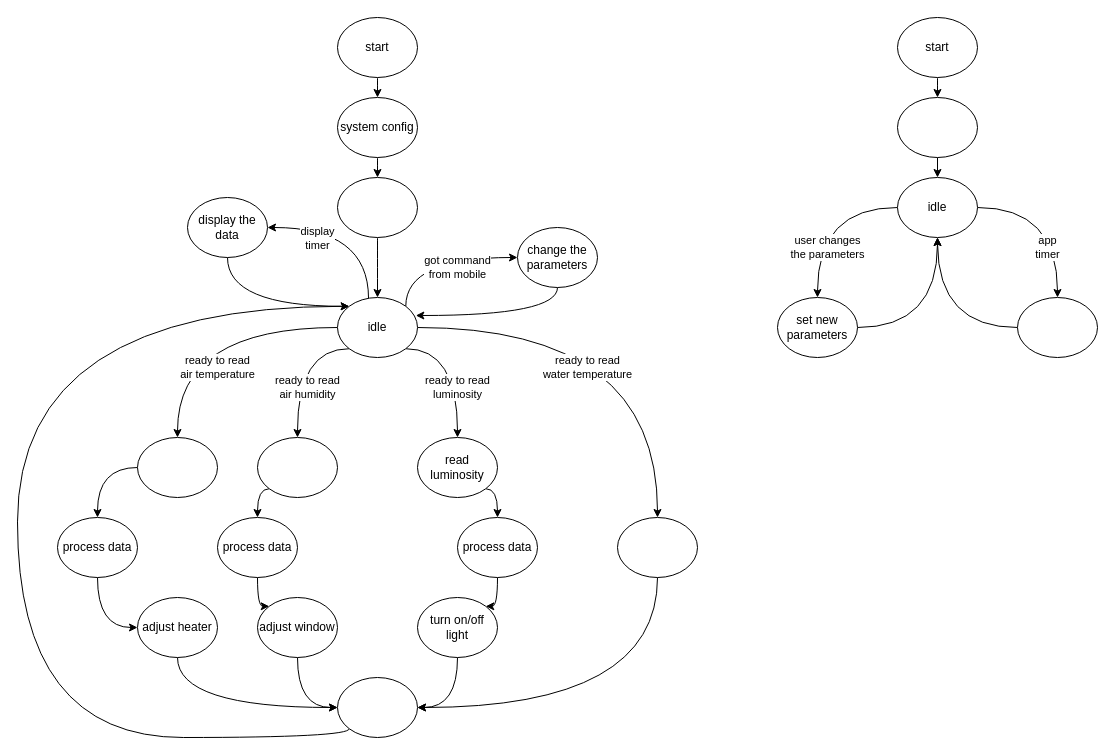
Some shapes in this 1115 by 755 pixel diagram are drawn without their labels. Each missing label, with the centre of its shape:
app config: the point at 937,127
read air humidity: the point at 297,467
read air temperature: the point at 177,467
read water temperature: the point at 657,547
refresh data from database: the point at 1057,327
send values to database: the point at 377,707
turn on water pump: the point at 377,207
